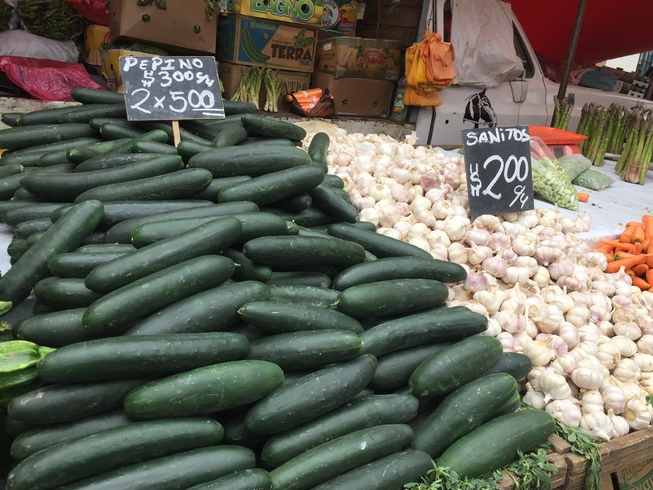precio: (114, 48, 237, 125), (460, 123, 539, 221)
